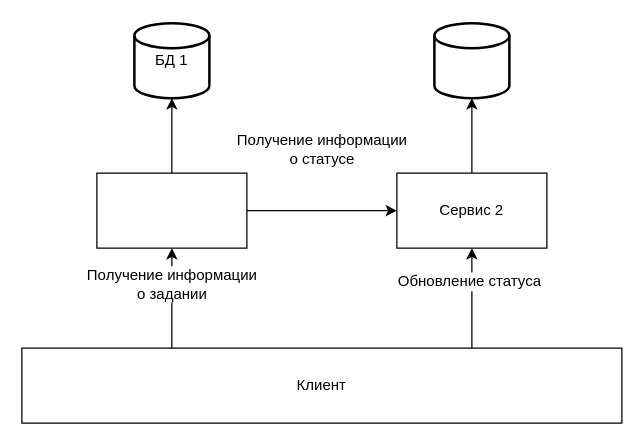
This 644x445 diagram has some shape labels left out. Here are the shapes that lost their labels. From the top down, the centre of each, then its label:
the point at 471,60: БД 2
the point at 171,210: Сервис 1
